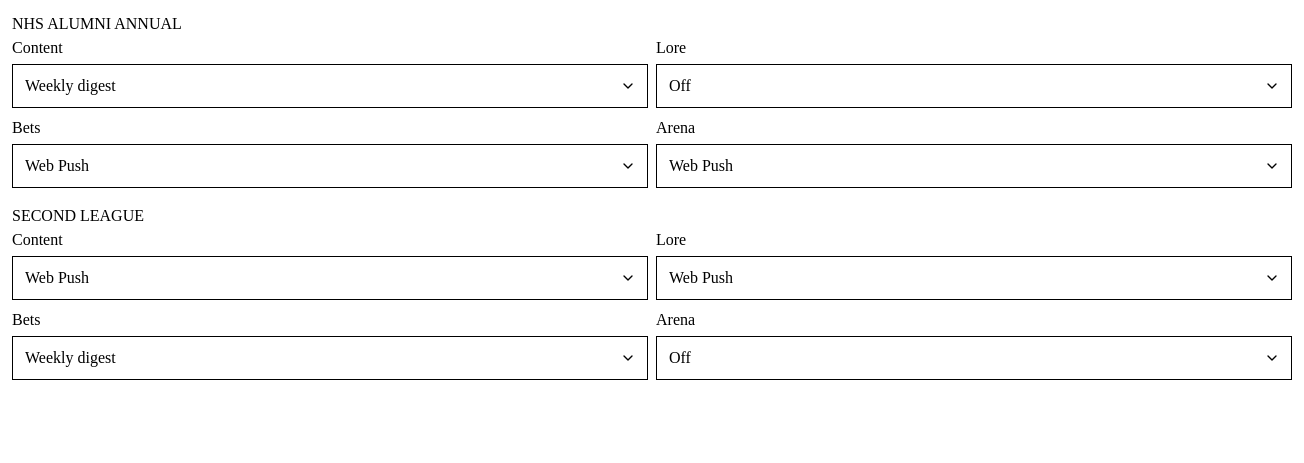
Scenario: a rejected save rolls the control back to the stored channel
The width and height of the screenshot is (1304, 463).
Select "Off" in the 1st dropdown labelled "Arena" at (974, 166), box left=656, top=144, right=1292, bottom=188
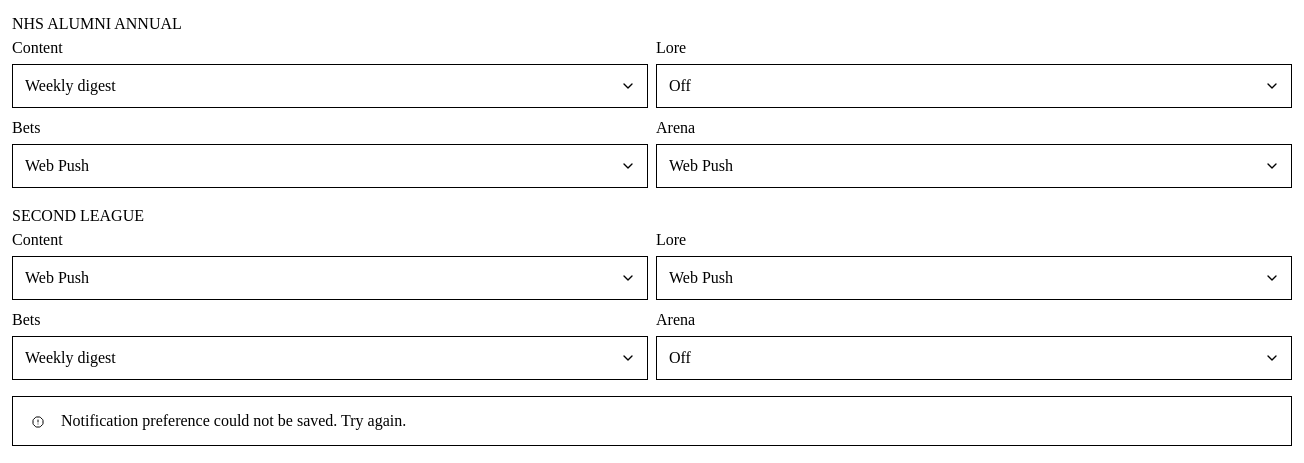
Expected: the text "Notification preference could not be saved. Try again." is shown, left=61, top=412, right=406, bottom=429
